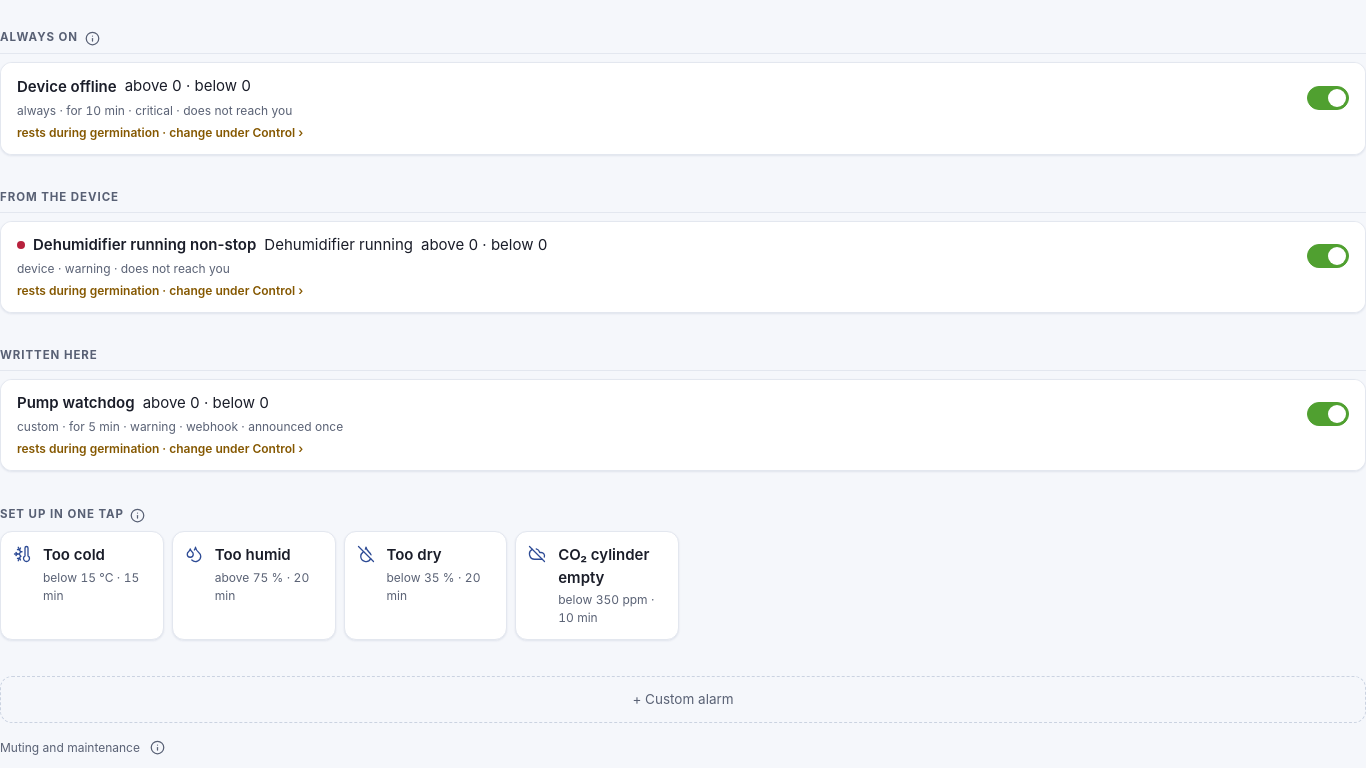
Test: the rule sheet › offers the readings the device reports and the outputs its hardware drives
The width and height of the screenshot is (1366, 768).
(page scrolled)
Click the button "+ Custom alarm" at (683, 700), box x1=0 y1=676 x2=1365 y2=723
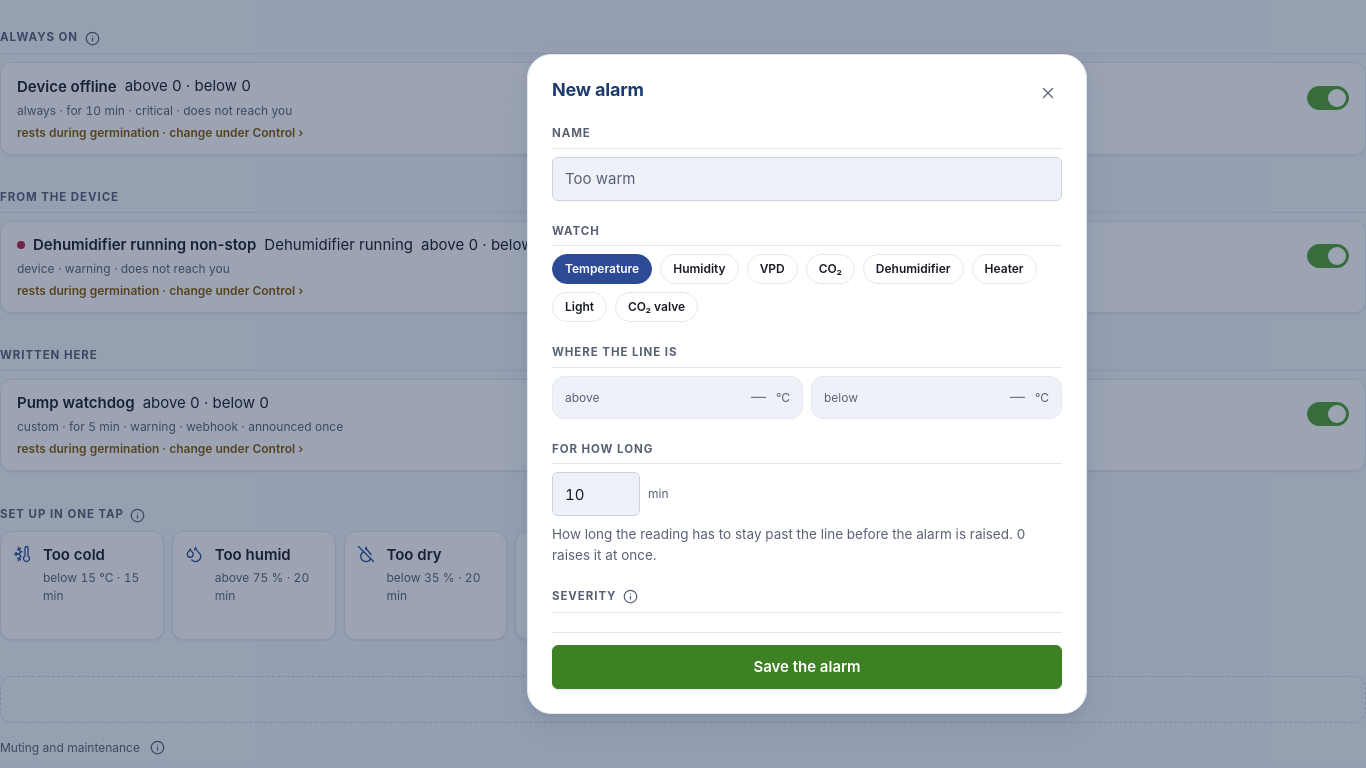
Check: the button "CO₂" is shown, box x1=806 y1=254 x2=855 y2=284
Check: the button "Dehumidifier" is shown, box x1=863 y1=254 x2=964 y2=284
